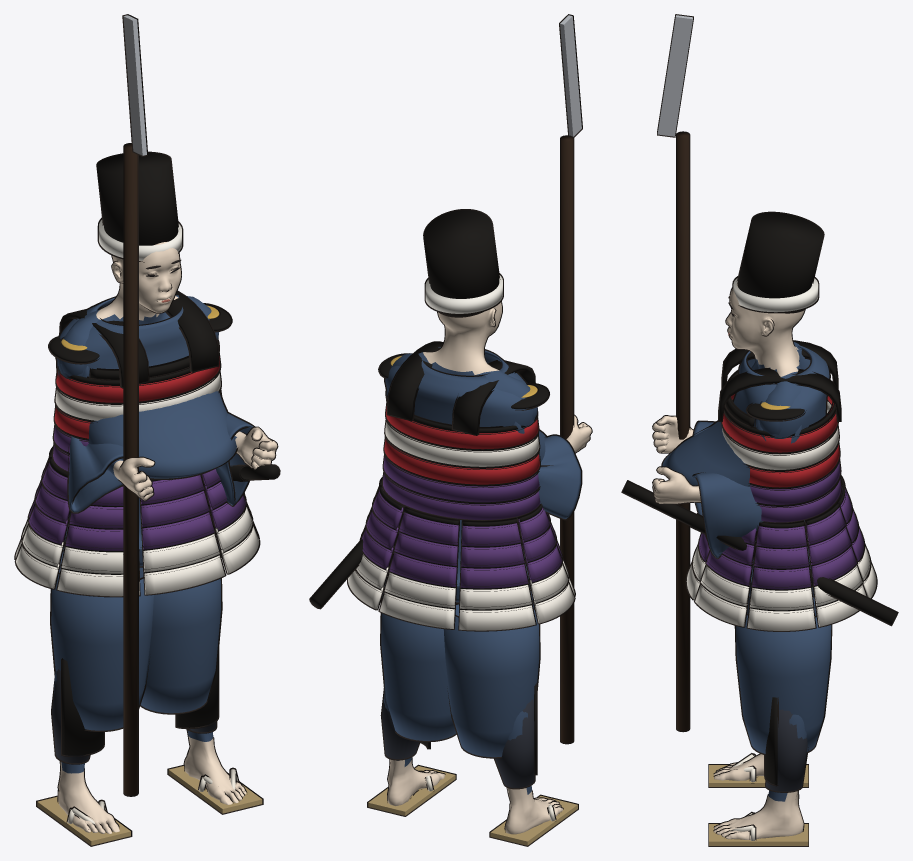
File: bushi_doumaru.glb
The picture shows the model from 3 angles, left to right: view 1: azimuth 30°, elevation 25°; view 2: azimuth 150°, elevation 25°; view 3: azimuth 270°, elevation 25°; orthographic projection. The views are drawn at different scales.
Parts seen in each view (by area): view 1: Human, shitagi, hakama.R, naginata_e, hakama.L, kusazuri0, dou, kusazuri7, eboshi, kusazuri6, kusazuri1, sode.R (+20 smaller); view 2: dou, hakama.R, Human, hakama.L, kusazuri4, kusazuri5, naginata_e, eboshi, shitagi, kusazuri6, kusazuri3, sode.R (+16 smaller); view 3: Human, hakama.L, dou, naginata_e, kusazuri2, eboshi, shitagi, kusazuri3, sode.L, kusazuri1, naginata_ha, suneate_nuno.L (+18 smaller).
Boxes of the visible parts, left/top/right/bottom form: Human: left=54, top=241, right=277, bottom=833; shitagi: left=57, top=298, right=236, bottom=566; hakama.R: left=51, top=551, right=153, bottom=730; naginata_e: left=124, top=144, right=137, bottom=795; hakama.L: left=139, top=545, right=220, bottom=713; kusazuri0: left=141, top=475, right=224, bottom=594; dou: left=53, top=341, right=220, bottom=471; kusazuri7: left=57, top=486, right=139, bottom=596; eboshi: left=97, top=153, right=178, bottom=245; kusazuri6: left=16, top=458, right=69, bottom=588; kusazuri1: left=202, top=469, right=258, bottom=573; sode.R: left=57, top=362, right=123, bottom=512; dou: left=383, top=395, right=540, bottom=519; hakama.R: left=443, top=591, right=539, bottom=757; Human: left=383, top=302, right=591, bottom=834; hakama.L: left=381, top=579, right=458, bottom=740; kusazuri4: left=380, top=508, right=458, bottom=628; kusazuri5: left=459, top=519, right=535, bottom=630; naginata_e: left=561, top=136, right=573, bottom=742; eboshi: left=424, top=210, right=499, bottom=316; shitagi: left=385, top=347, right=546, bottom=602; kusazuri6: left=518, top=504, right=574, bottom=623; kusazuri3: left=348, top=486, right=403, bottom=609; sode.R: left=513, top=421, right=580, bottom=518; Human: left=653, top=282, right=810, bottom=839; hakama.L: left=736, top=610, right=831, bottom=753; dou: left=722, top=394, right=841, bottom=522; naginata_e: left=677, top=132, right=689, bottom=730; kusazuri2: left=747, top=522, right=815, bottom=630; eboshi: left=737, top=213, right=823, bottom=298; shitagi: left=662, top=344, right=829, bottom=596; kusazuri3: left=806, top=503, right=866, bottom=626; sode.L: left=693, top=419, right=801, bottom=557; kusazuri1: left=695, top=528, right=756, bottom=626; naginata_ha: left=657, top=15, right=692, bottom=136; suneate_nuno.L: left=766, top=709, right=807, bottom=791.
Size of the model in its own units: 0.6143 by 2.2 by 0.7207.
